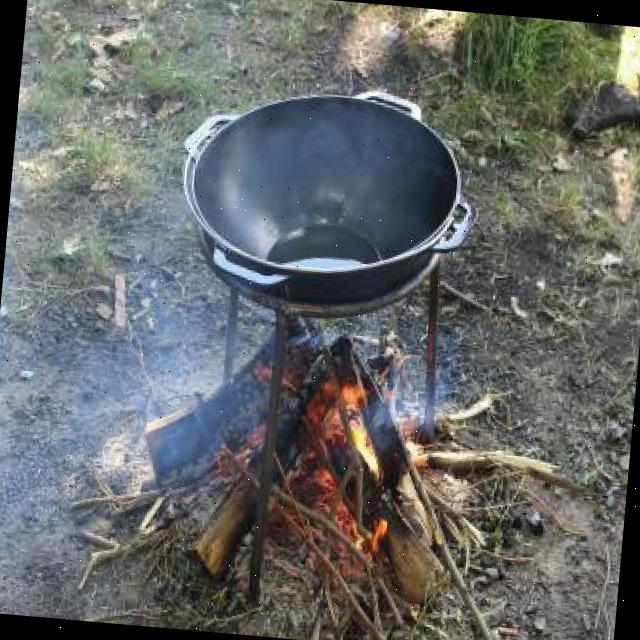fire: (334, 375, 393, 489), (343, 508, 396, 564)
